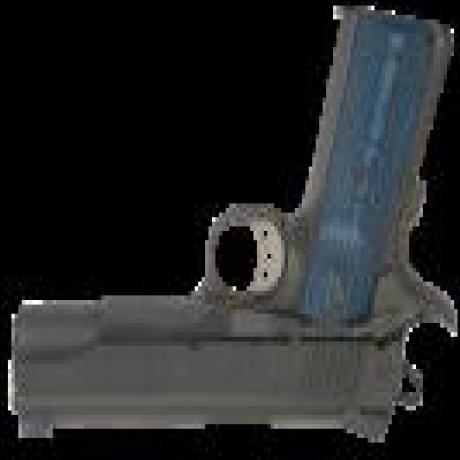weapon: (9, 9, 460, 446)
